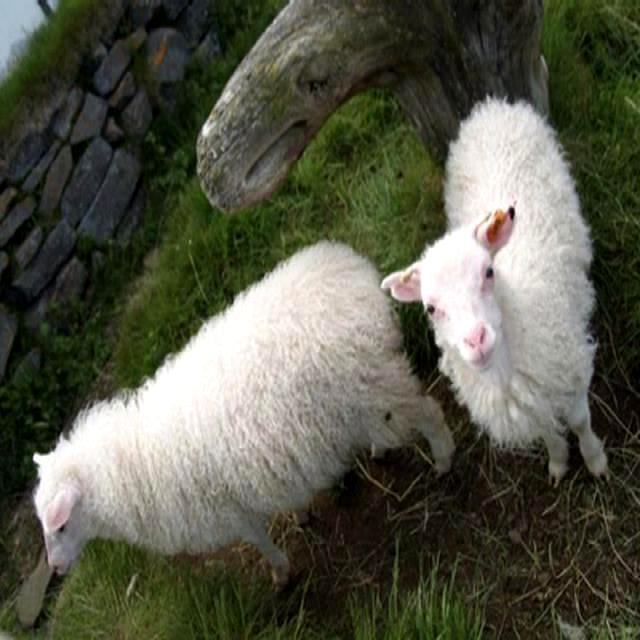sheep: (33, 245, 453, 587), (386, 99, 610, 485)
